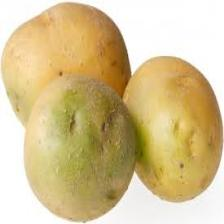Defected potato: (3, 4, 132, 142), (22, 78, 138, 222), (122, 52, 224, 200)
